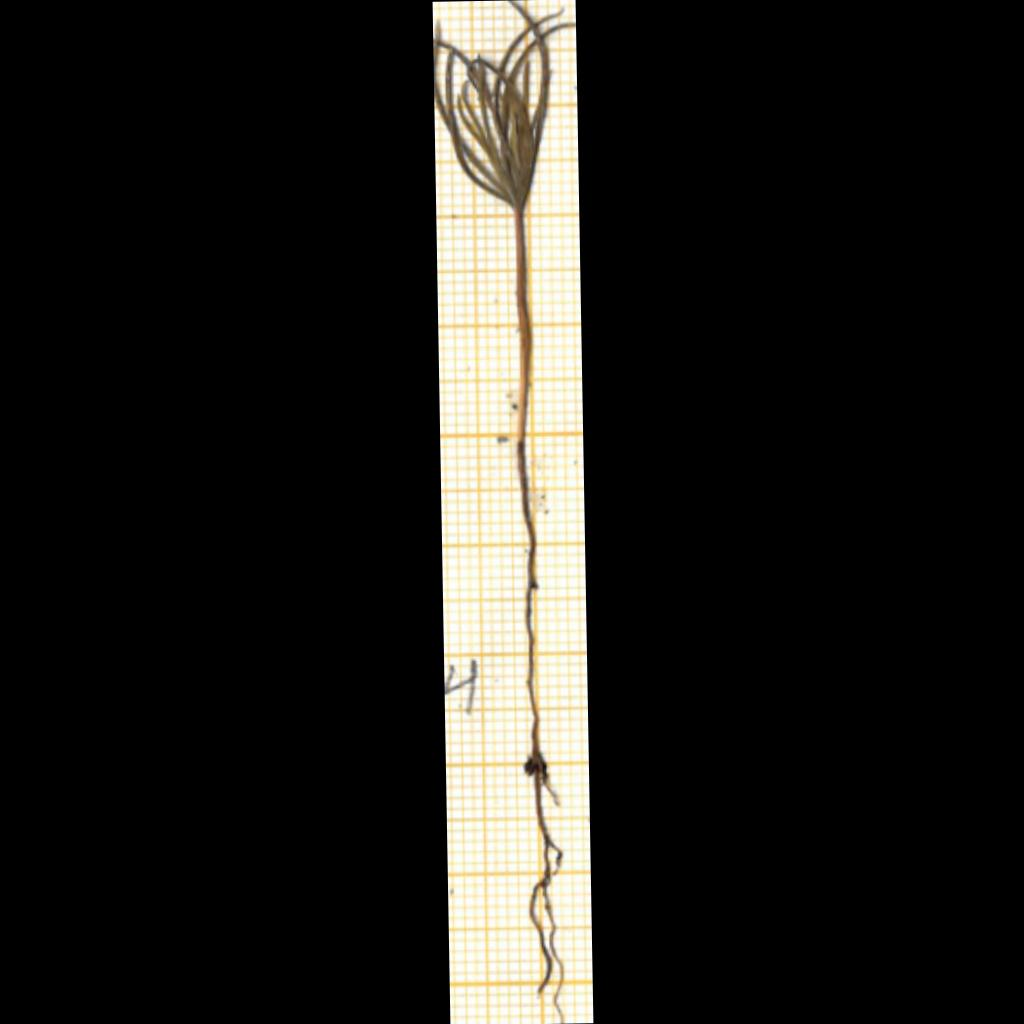flowerPinus: (433, 16, 560, 209)
rootPinus: (518, 443, 564, 1023)
stemPinus: (516, 208, 531, 444)
